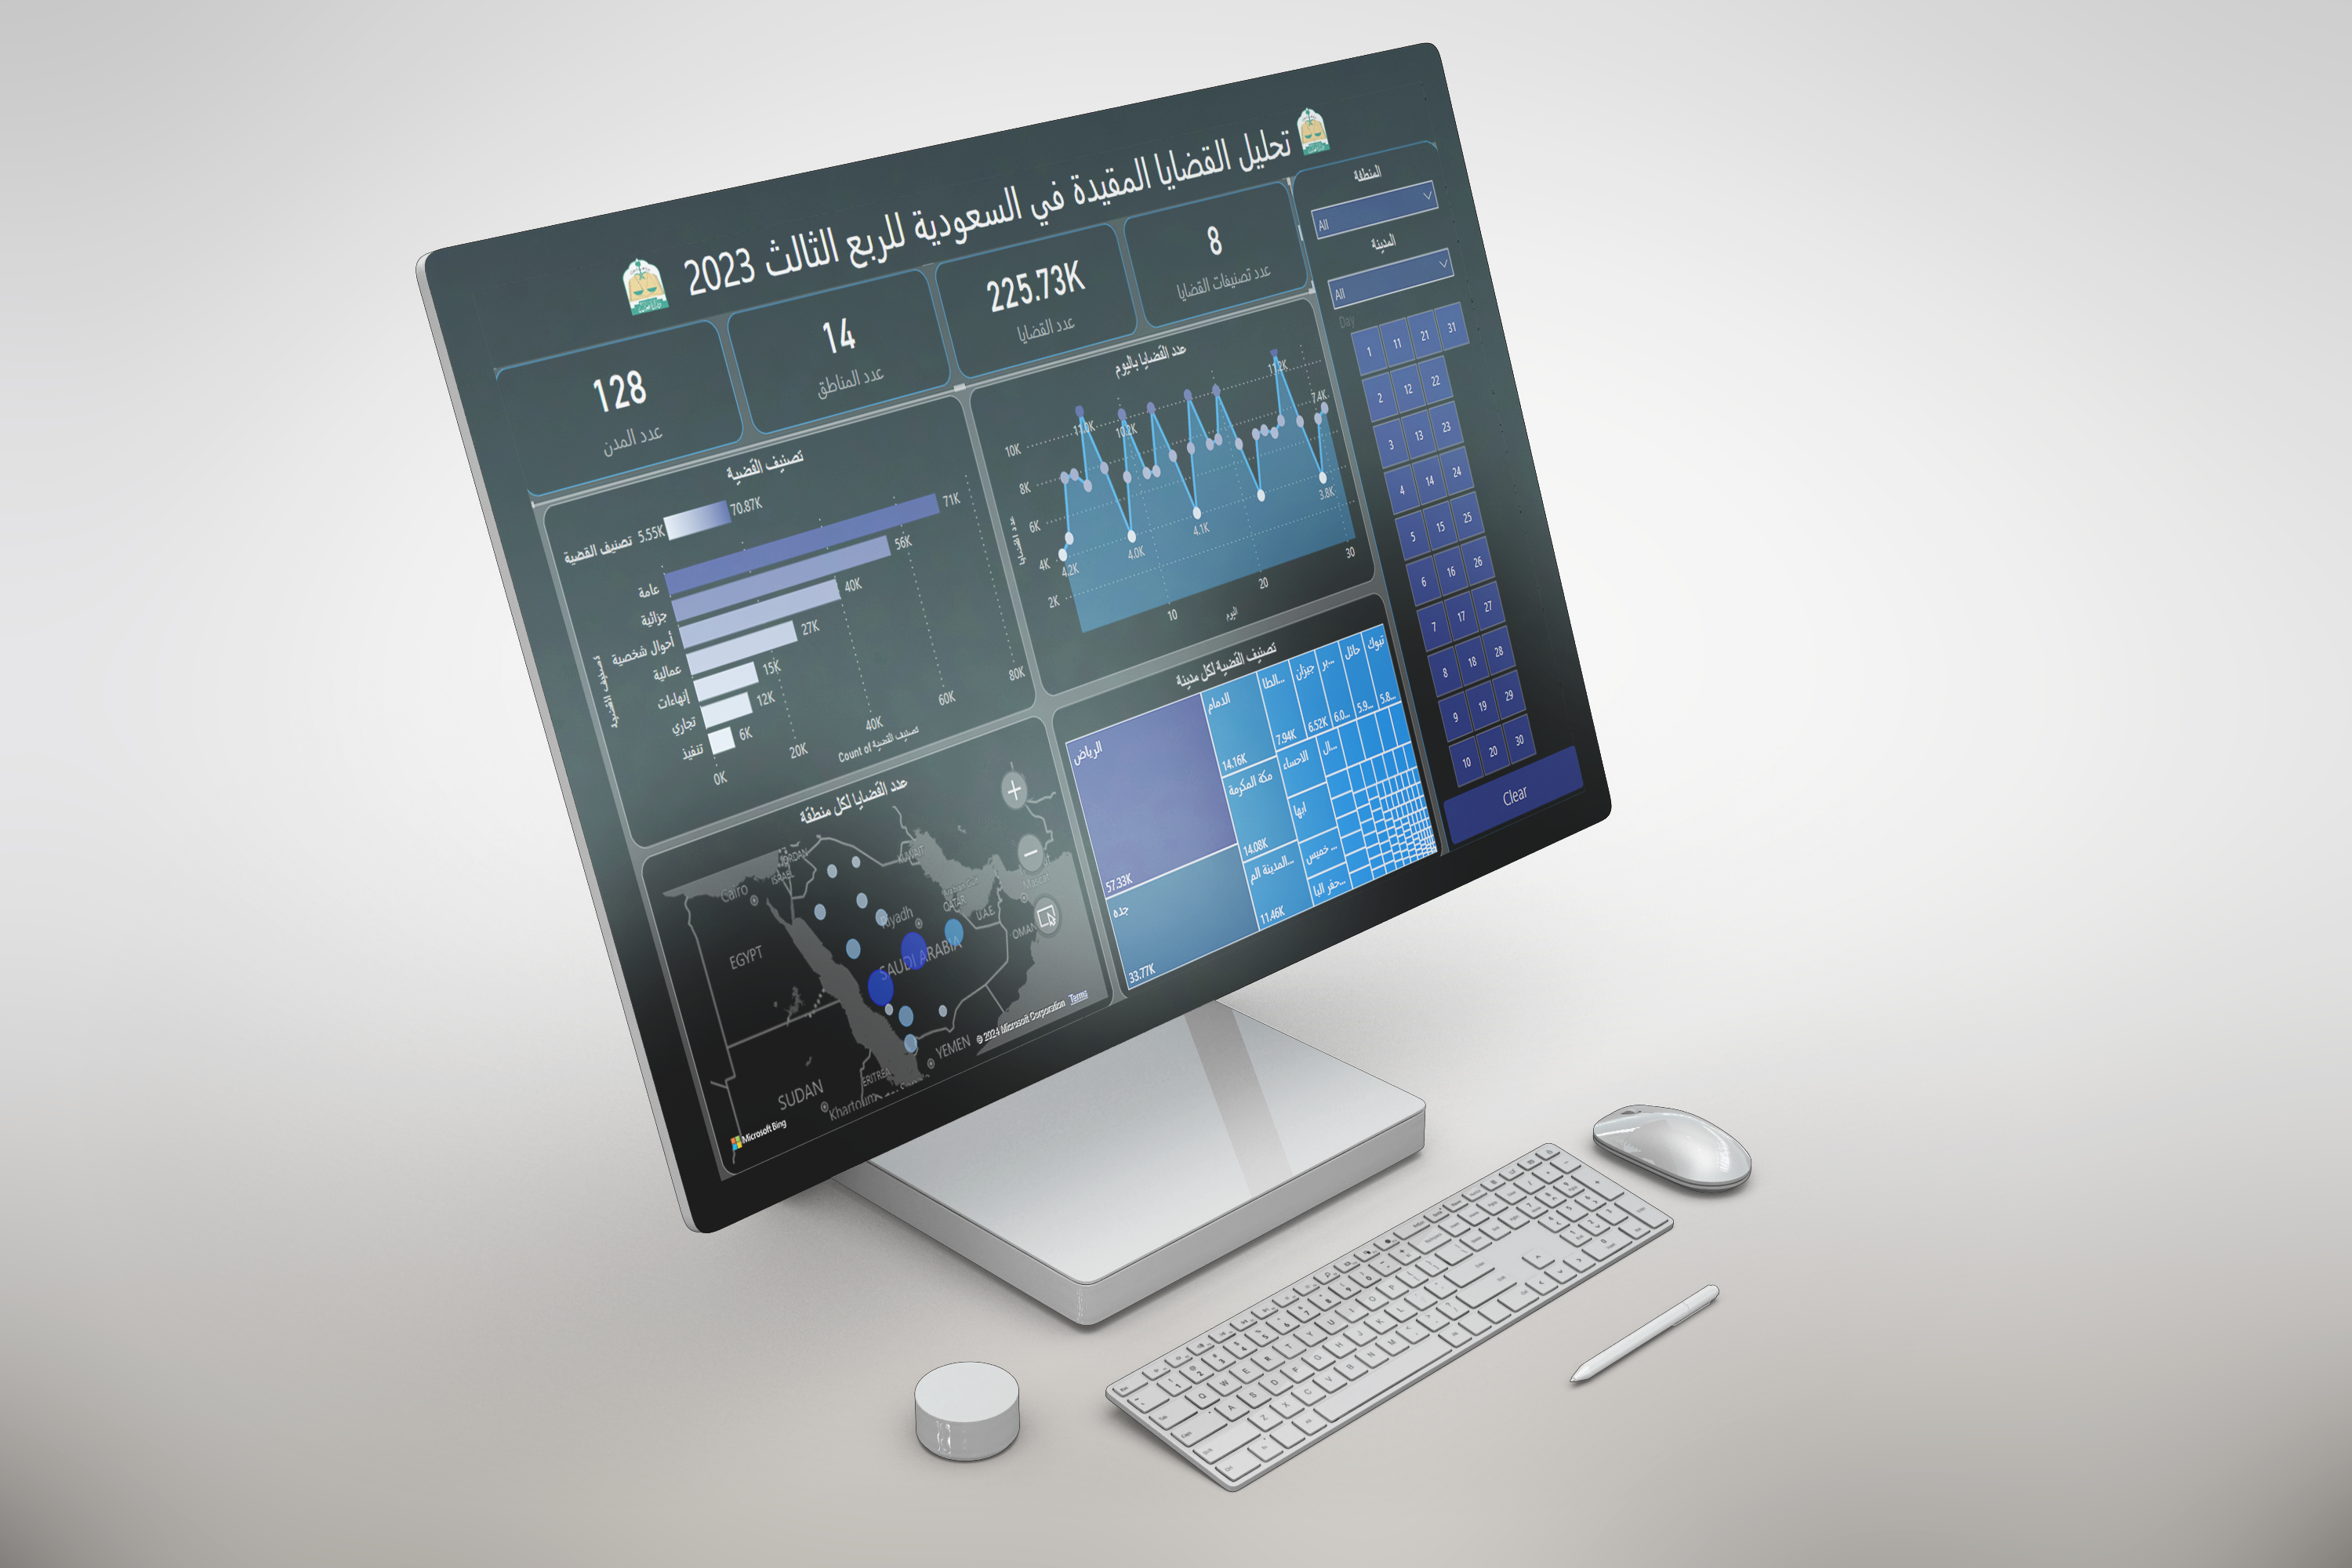

Layout of this report page (visuals, bound fields, positions):
{"tool":"powerbi","page":{"name":"الرئيسية","canvas":[1280,720],"ordinal":0},"visuals":[{"type":"barChart","title":"تصنيف القضية","fields":{"Category":["00-0202-1-2_القضايا المقيدة في.تصنيف القضية"],"Y":["CountNonNull(00-0202-1-2_القضايا المقيدة في.تصنيف القضية)"]},"box":[14.5,173.7,500,274],"z":0},{"type":"cardVisual","fields":{"Data":["Count(00-0202-1-2_القضايا المقيدة في.المدينة)","Count(00-0202-1-2_القضايا المقيدة في.المنطقة)","Count(00-0202-1-2_القضايا المقيدة في.الرقم المرجعي)","Count(00-0202-1-2_القضايا المقيدة في.تصنيف القضية)"]},"box":[0,59.9,1033.5,110.8],"z":1000},{"type":"textbox","box":[0,0,1280.5,63.8],"z":2000},{"type":"shape","box":[1032.4,60.3,247.2,657.3],"z":3000},{"type":"slicer","fields":{"Values":["00-0202-1-2_القضايا المقيدة في.تاريخ قيد القضية ميلادي.Variation.Date Hierarchy.Day"]},"box":[1044.8,191.9,233.7,476.8],"z":4000},{"type":"slicer","title":"المنطفة","fields":{"Values":["00-0202-1-2_القضايا المقيدة في.المنطقة"]},"box":[1044.8,68.4,220.4,64.6],"z":5000},{"type":"slicer","title":"المدينة","fields":{"Values":["00-0202-1-2_القضايا المقيدة في.المدينة"]},"box":[1044.8,134.9,220.4,77.9],"z":6000},{"type":"map","title":"عدد القضايا لكل منطقة","fields":{"Size":["Count(00-0202-1-2_القضايا المقيدة في.الرقم المرجعي)"],"Category":["00-0202-1-2_القضايا المقيدة في.المنطقة"]},"box":[14.5,454.7,500.5,262.9],"z":7000},{"type":"treemap","title":" تصنيف القضية لكل مدينة","fields":{"Group":["00-0202-1-2_القضايا المقيدة في.المدينة"],"Values":["CountNonNull(00-0202-1-2_القضايا المقيدة في.تصنيف القضية)"]},"box":[523.4,455.9,500.5,264.1],"z":8000},{"type":"actionButton","box":[1041,668.7,233.7,43.7],"z":9000},{"type":"areaChart","title":"عدد القضايا باليوم","fields":{"Category":["00-0202-1-2_القضايا المقيدة في.اليوم"],"Y":["Count(00-0202-1-2_القضايا المقيدة في.الرقم المرجعي)"]},"box":[524,174,500,271],"z":10000},{"type":"image","box":[151,1,70,53],"z":10001},{"type":"image","box":[1049.2,0,71.2,53.1],"z":10002}]}

Visuals, with their boxes on the page's 1280x720 design canvas (x1, y1, x2, y2). These are canvas units, not pixel positions in the 2352x1568 screenshot, which may show the page scaled, cropped or inside an application window:
"تصنيف القضية" barChart: pyautogui.locateOnScreen(14, 174, 514, 448)
cardVisual - Count(00-0202-1-2_القضايا المقيدة في.المدينة) x Count(00-0202-1-2_القضايا المقيدة في.المنطقة): pyautogui.locateOnScreen(0, 60, 1034, 171)
textbox: pyautogui.locateOnScreen(0, 0, 1280, 64)
shape: pyautogui.locateOnScreen(1032, 60, 1280, 718)
slicer - 00-0202-1-2_القضايا المقيدة في.تاريخ قيد القضية ميلادي.Variation.Date Hierarchy.Day: pyautogui.locateOnScreen(1045, 192, 1278, 669)
"المنطفة" slicer: pyautogui.locateOnScreen(1045, 68, 1265, 133)
"المدينة" slicer: pyautogui.locateOnScreen(1045, 135, 1265, 213)
"عدد القضايا لكل منطقة" map: pyautogui.locateOnScreen(14, 455, 515, 718)
" تصنيف القضية لكل مدينة" treemap: pyautogui.locateOnScreen(523, 456, 1024, 720)
actionButton: pyautogui.locateOnScreen(1041, 669, 1275, 712)
"عدد القضايا باليوم" areaChart: pyautogui.locateOnScreen(524, 174, 1024, 445)
image: pyautogui.locateOnScreen(151, 1, 221, 54)
image: pyautogui.locateOnScreen(1049, 0, 1120, 53)
